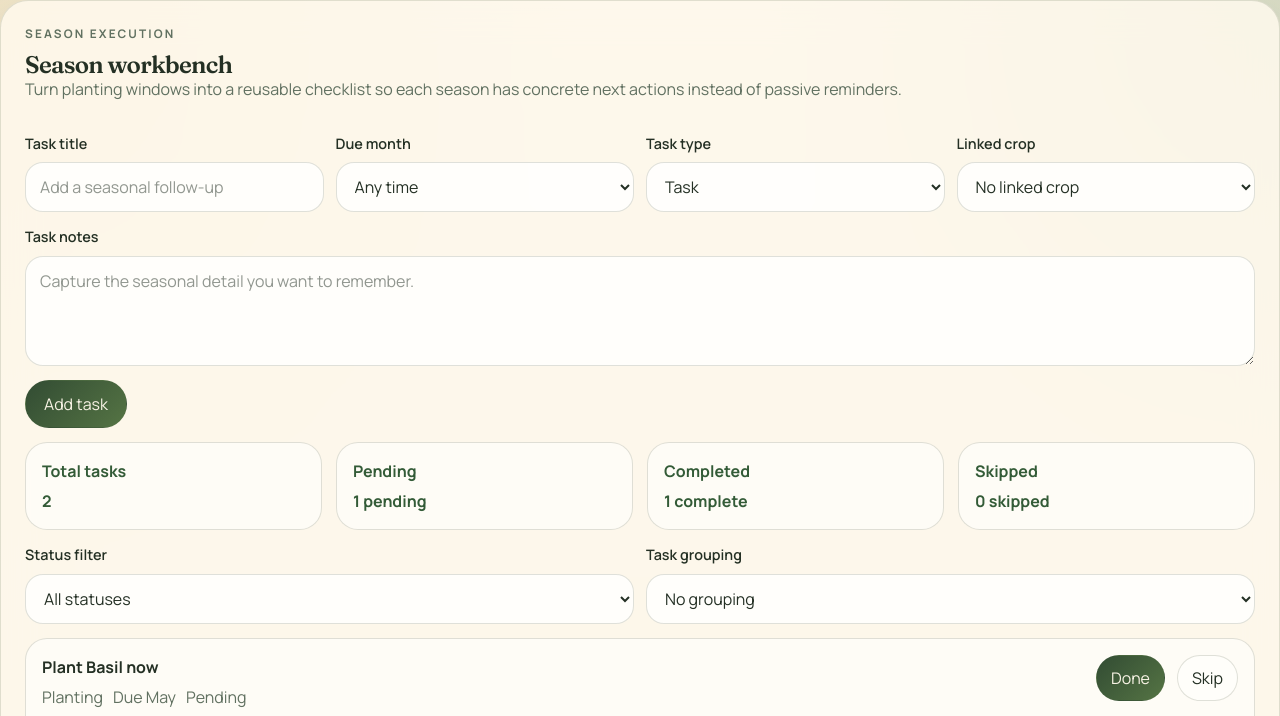
Test: PlannerSeasonWorkbench › filters the workbench list by status
Select "Completed" in the dropdown labelled "Status filter" at (330,599), box [25,574,634,624]
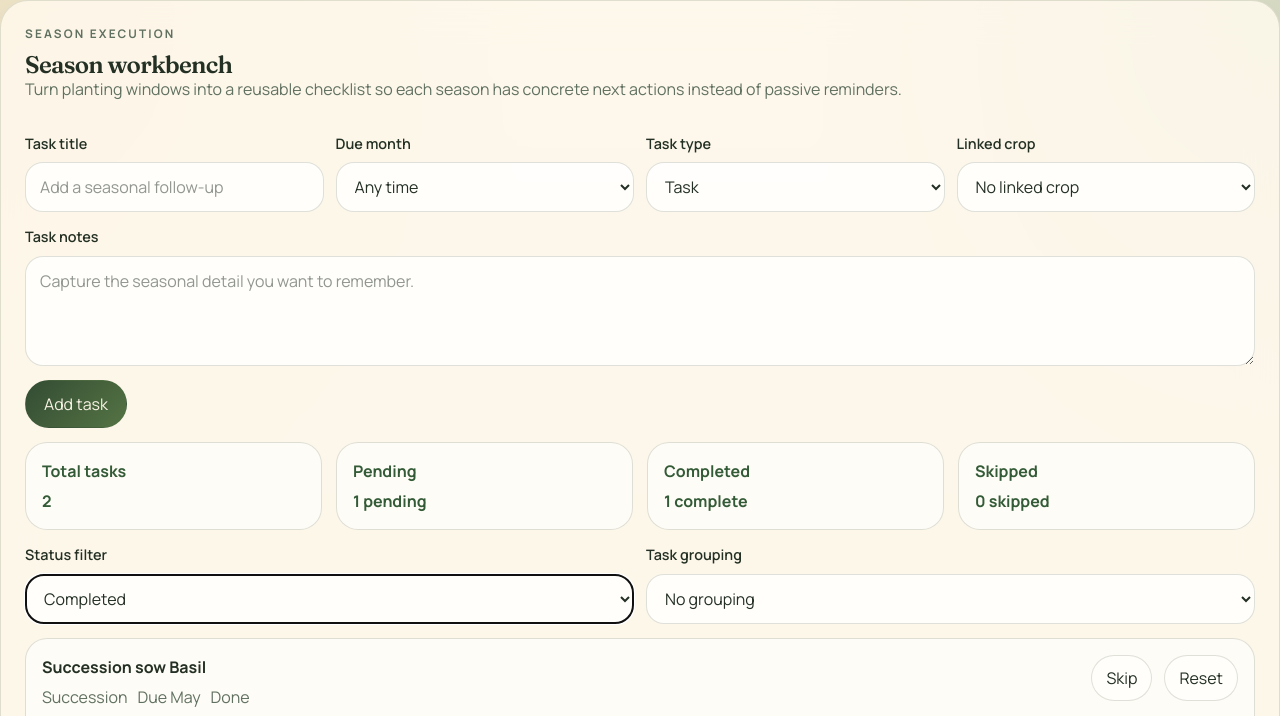
Check: the text "Succession sow Basil" is shown, box [42,656,206,678]
Check: the text "Plant Basil now" is gone
